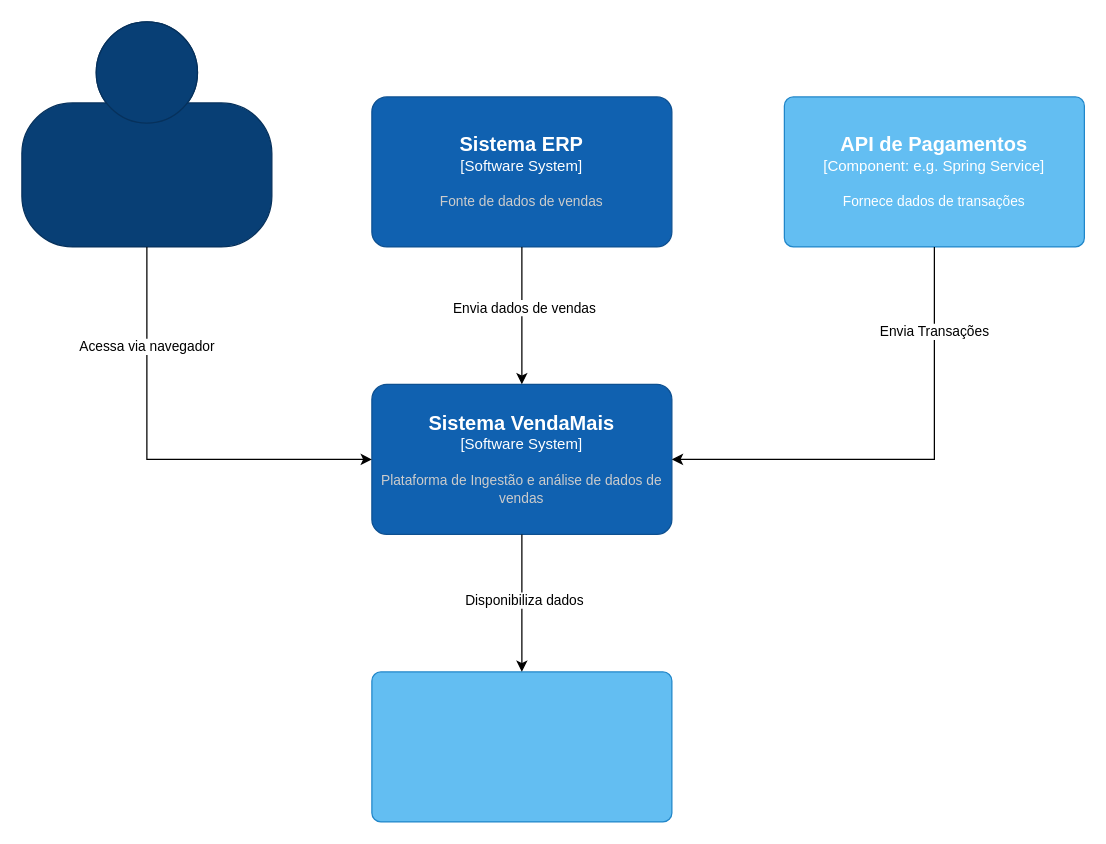
This 1106x844 diagram has some shape labels left out. Each missing label, with the centre of its shape:
Ferramenta de BI [Component: Power BI] Consome dados para relatórios: the point at 521,746
Gestor/Analista [Person] Usa o sistema para visualizar relatórios e indicadores: the point at 146,134
